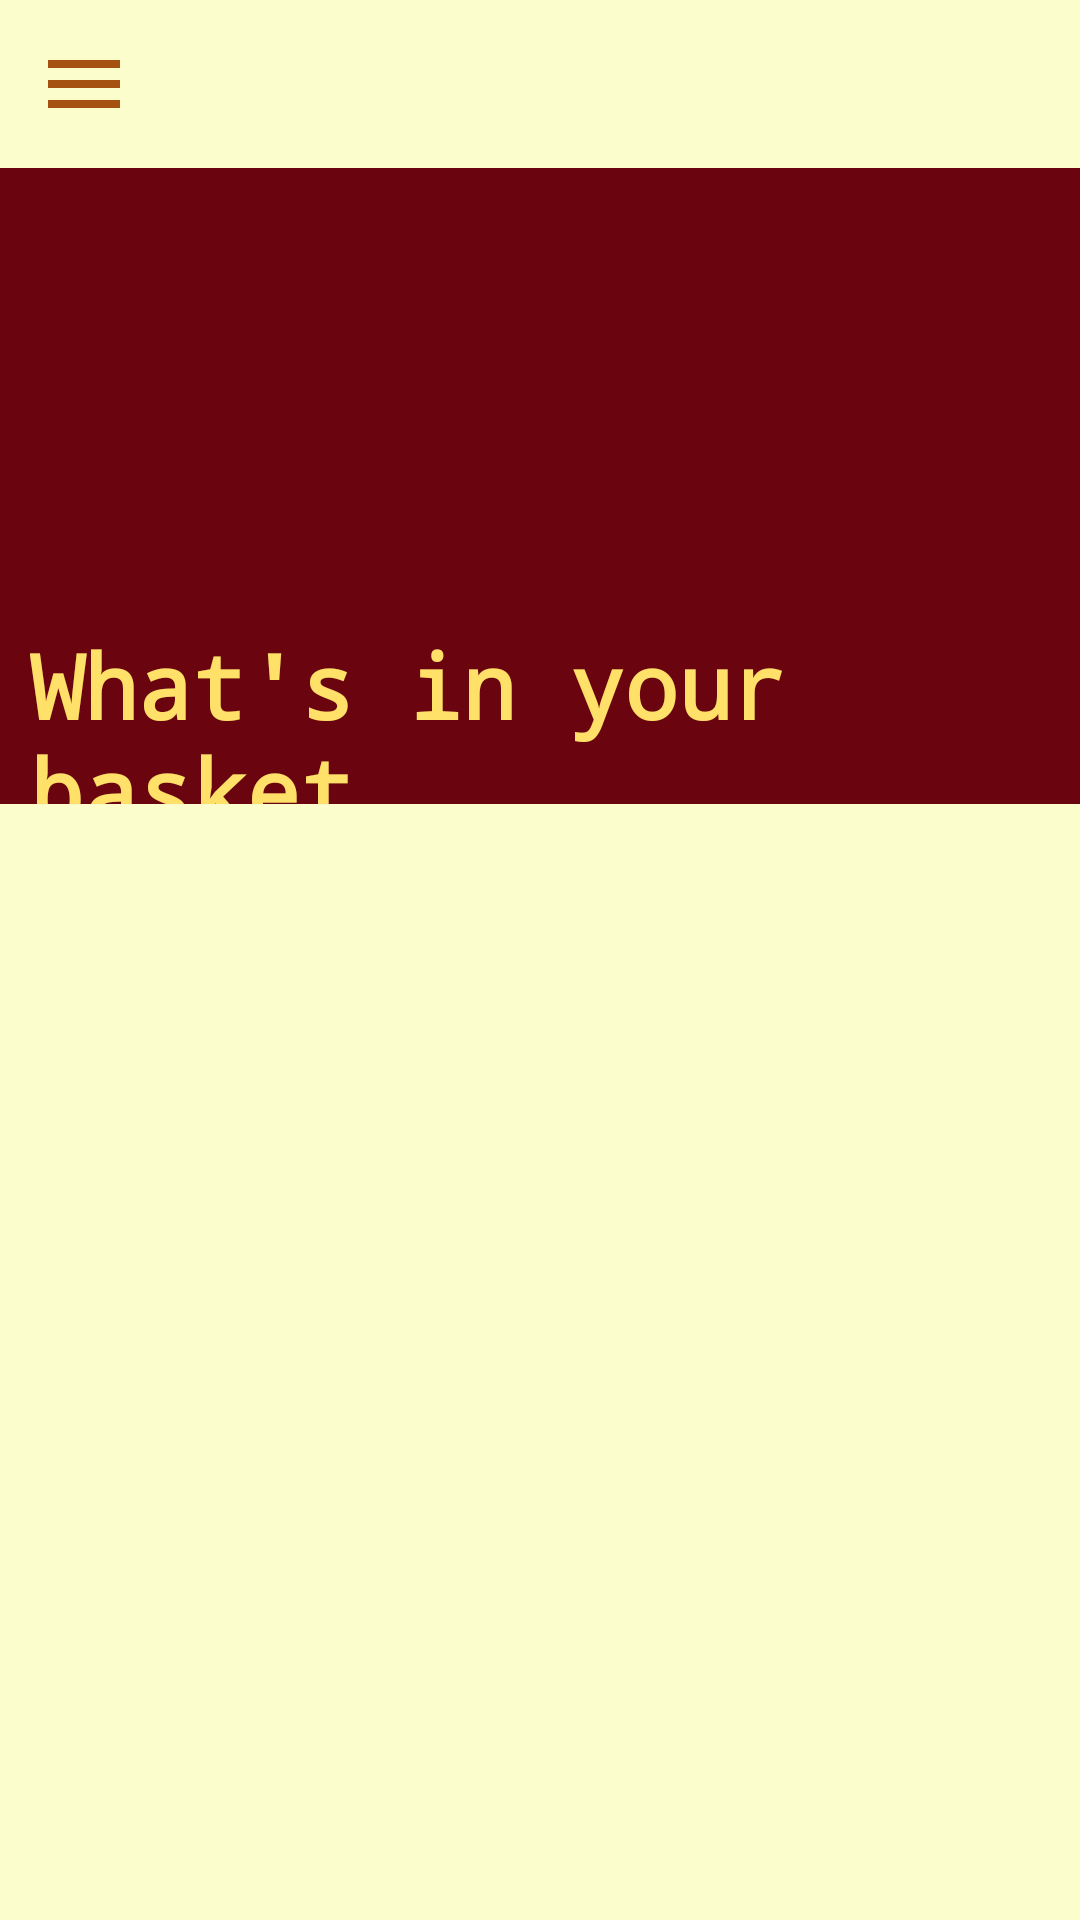

Icon click points for this 1080 x 1920 phone screenshot, format (x=x, y=y):
menu: (x=84, y=84)
